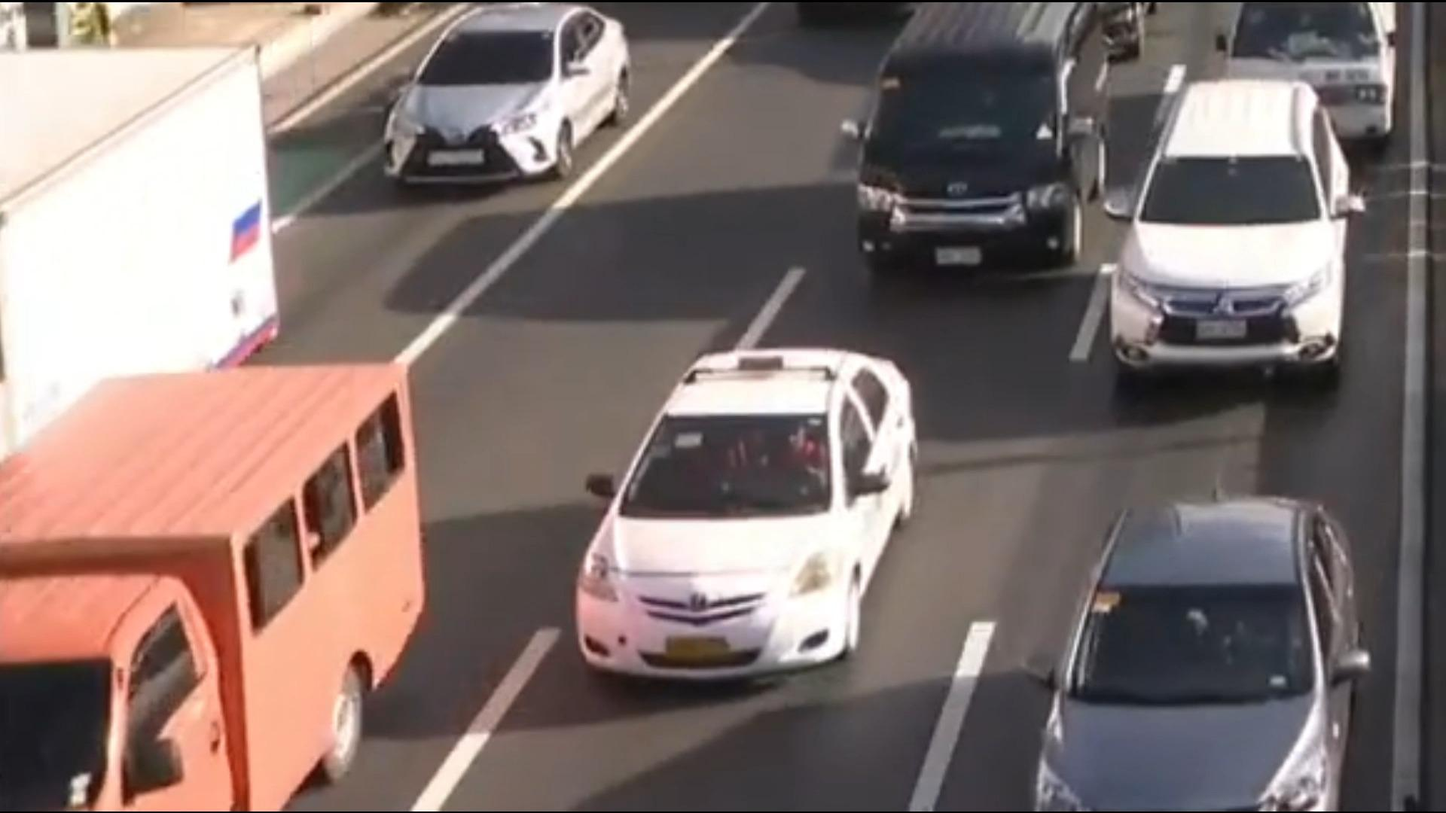Multicab: (0, 358, 431, 813), (1207, 0, 1412, 151)
SUV: (1107, 79, 1356, 384)
Sedan: (572, 348, 919, 685), (1034, 501, 1363, 813), (384, 13, 635, 186)
Truck: (0, 40, 275, 472)
Van: (849, 0, 1115, 282)
